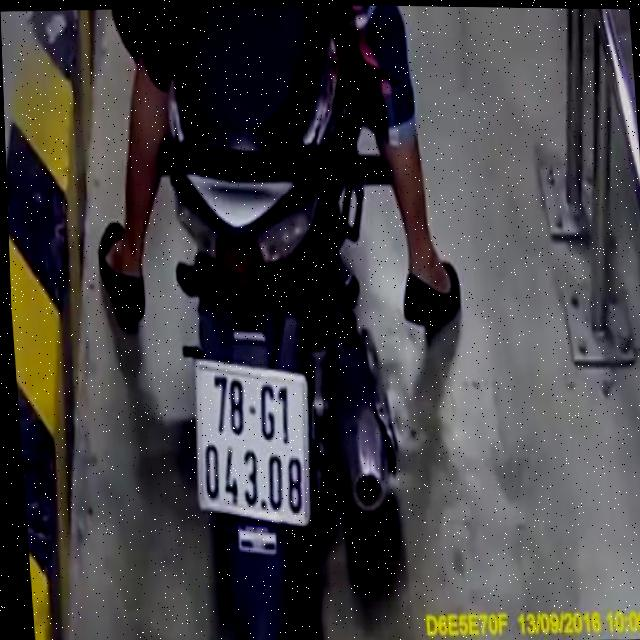motorcycle: (146, 27, 425, 640)
plate: (182, 344, 319, 530)
